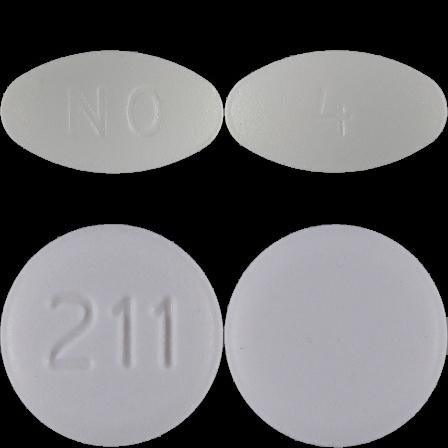67877-169: (0, 0, 224, 224)
